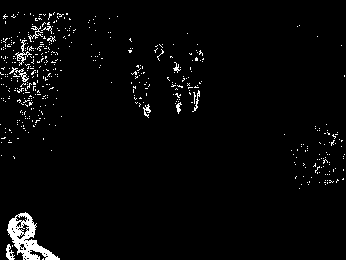person: (6, 212, 61, 260), (131, 64, 152, 120), (168, 61, 185, 114)
